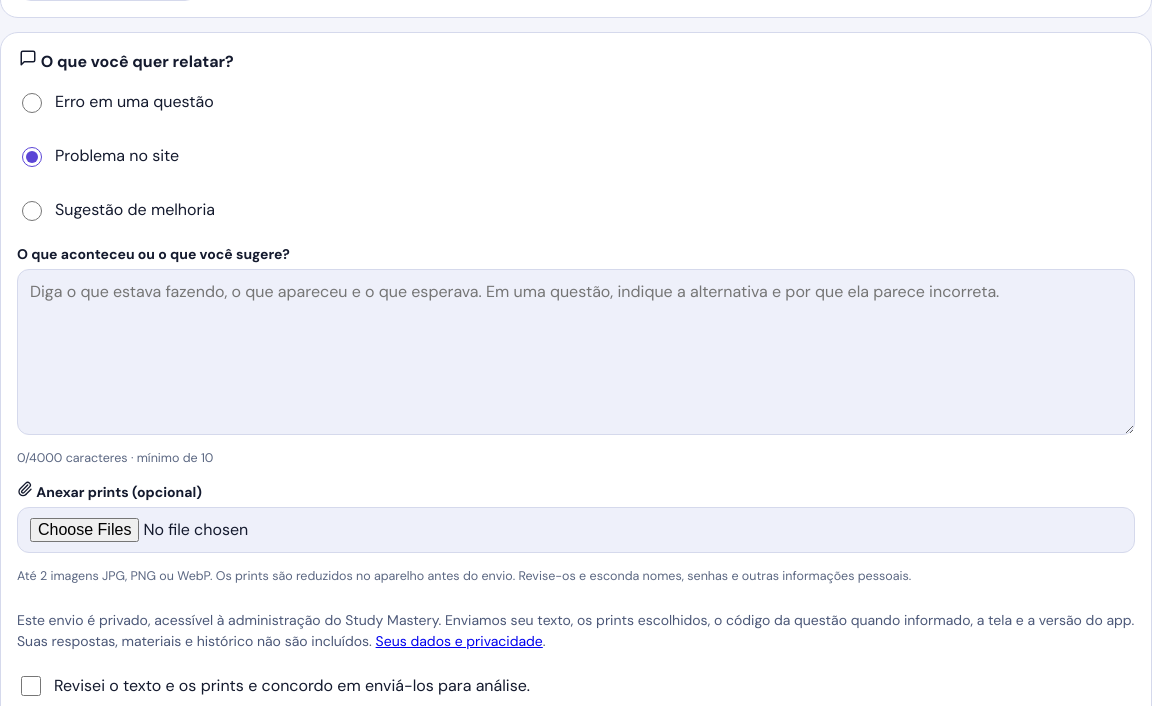
Test: feedback do estudante › rascunho só é retomado por escolha e precisa de confirmação para substituir outro
(page scrolled)
Replace the text in the text box labelled "O que aconteceu ou o que você sugere?" with "A alternativa C parece incorreta quando aplico a regra." at (576, 352), box [17, 269, 1135, 435]
(page scrolled)
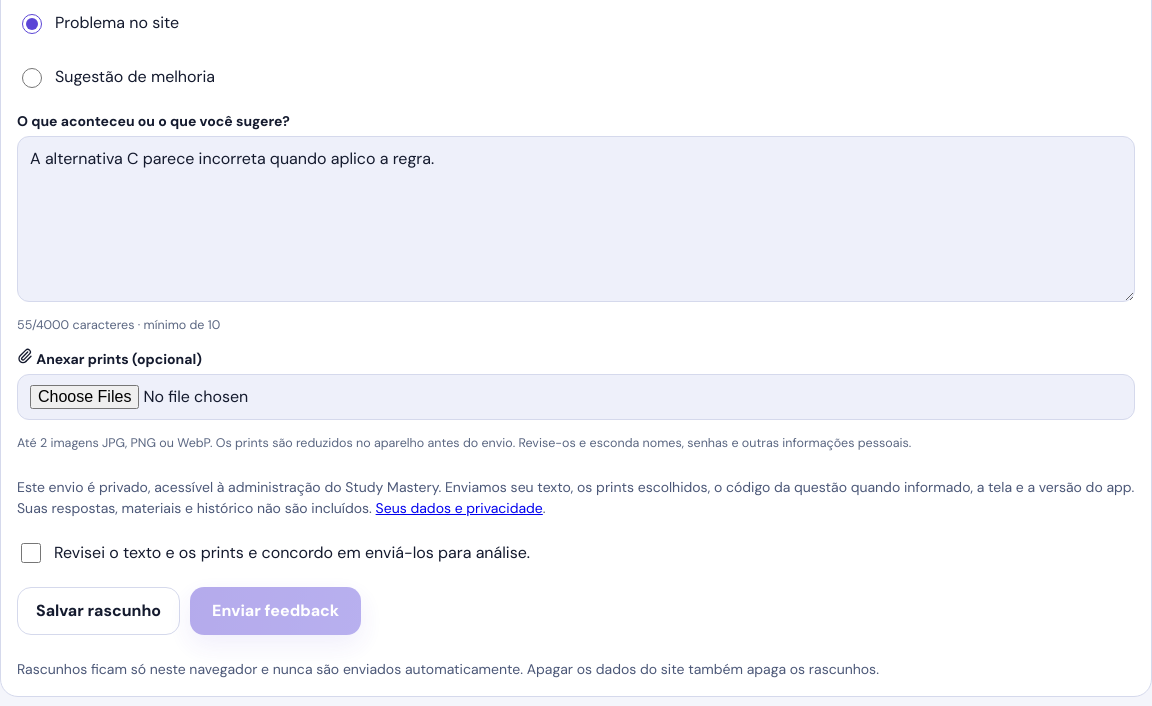
Click the button "Salvar rascunho".
click(99, 611)  # box [17, 587, 180, 635]
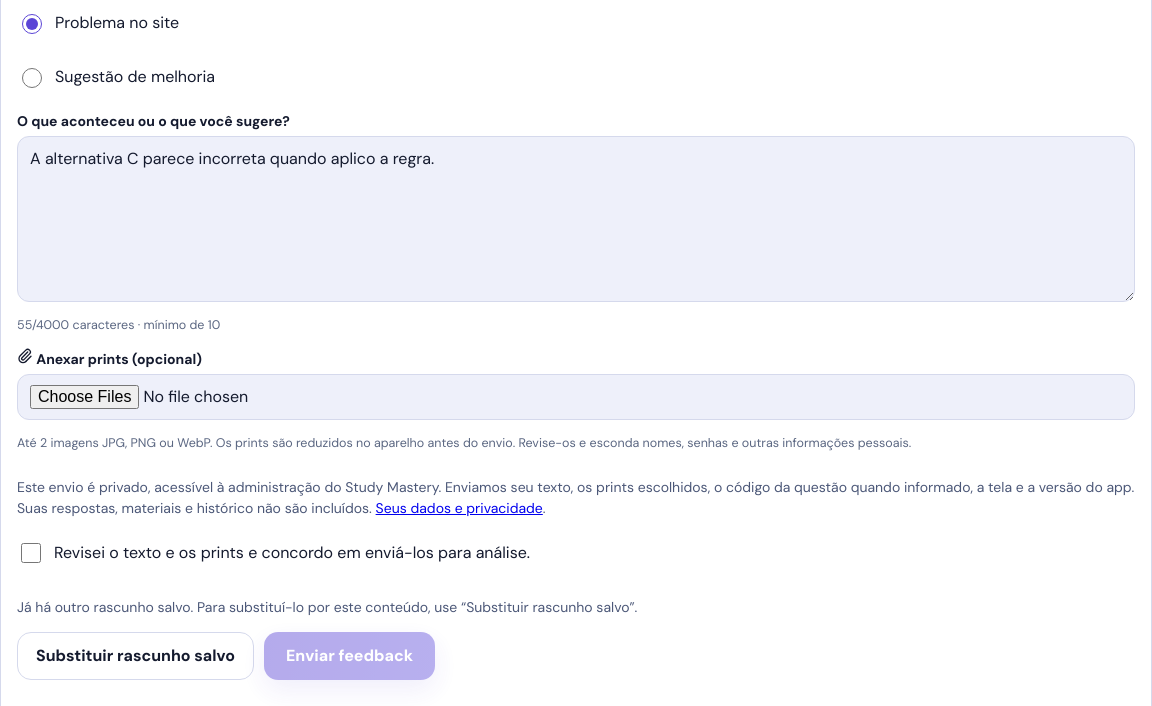
Expected: the button "Substituir rascunho salvo" is shown
Click the button "Substituir rascunho salvo".
click(135, 656)  # box [17, 632, 254, 680]
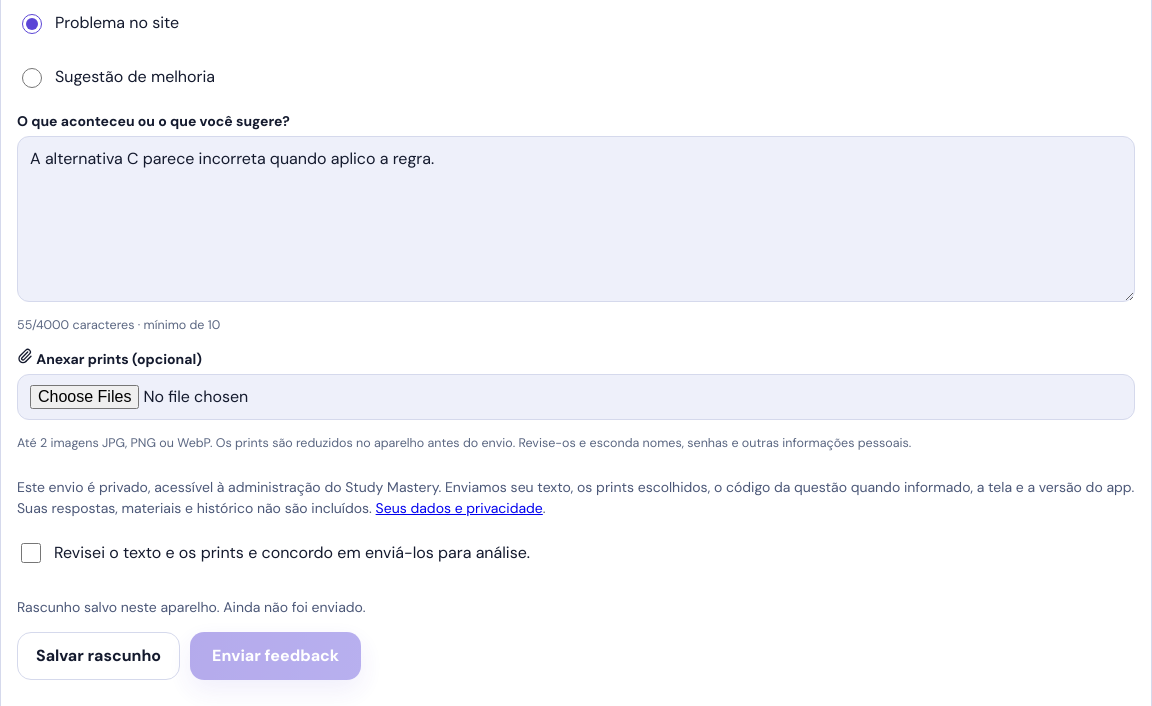
Expected: the text "Rascunho salvo neste aparelho. Ainda não foi enviado." is shown, [17, 598, 366, 616]
